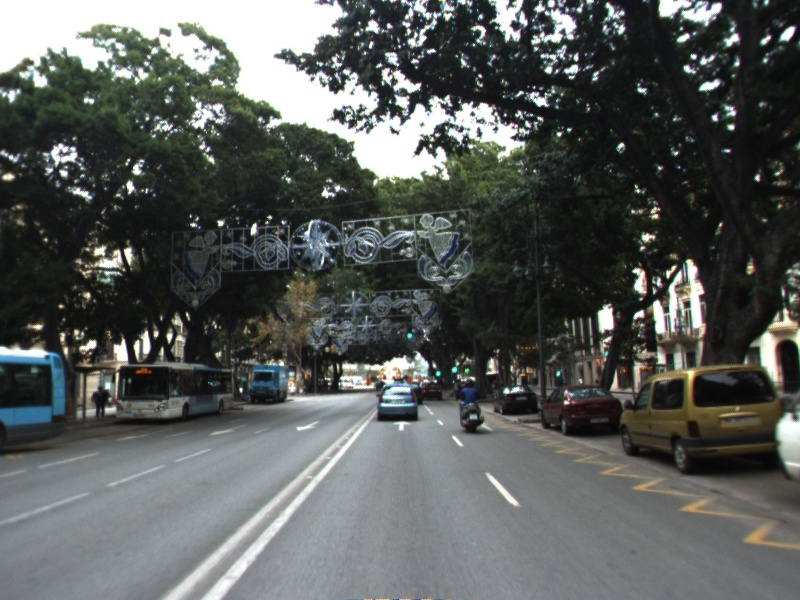STRAIGHT: (391, 418, 413, 433)
